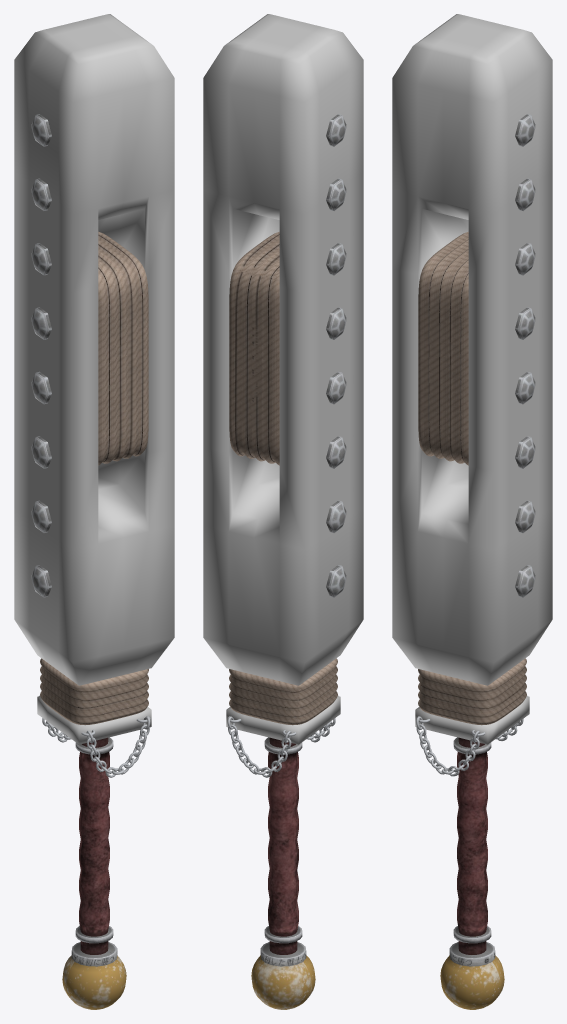
File: bonk.gltf
The picture shows the model from 3 angles, left to right: view 1: azimuth 30°, elevation 25°; view 2: azimuth 150°, elevation 25°; view 3: azimuth 330°, elevation 25°; orthographic projection.
Parts seen in each view (by area): view 1: Club.003, Club.002, Club.004, Club.001, Club; view 2: Club.003, Club.002, Club.004, Club.001, Club; view 3: Club.003, Club.002, Club.004, Club.001, Club.
Boxes of the visible parts, left/top/right/bottom form: Club.003: left=14, top=14, right=174, bottom=744; Club.002: left=40, top=231, right=148, bottom=725; Club.004: left=31, top=114, right=150, bottom=966; Club.001: left=79, top=737, right=109, bottom=954; Club: left=62, top=955, right=126, bottom=1009; Club.003: left=203, top=14, right=363, bottom=744; Club.002: left=229, top=231, right=337, bottom=725; Club.004: left=227, top=114, right=346, bottom=966; Club.001: left=268, top=737, right=298, bottom=954; Club: left=251, top=955, right=315, bottom=1009; Club.003: left=392, top=14, right=552, bottom=744; Club.002: left=418, top=231, right=526, bottom=725; Club.004: left=416, top=114, right=535, bottom=966; Club.001: left=457, top=737, right=487, bottom=954; Club: left=440, top=955, right=504, bottom=1009.
Size of the model in its own units: 0.2525 by 2 by 0.2288.
